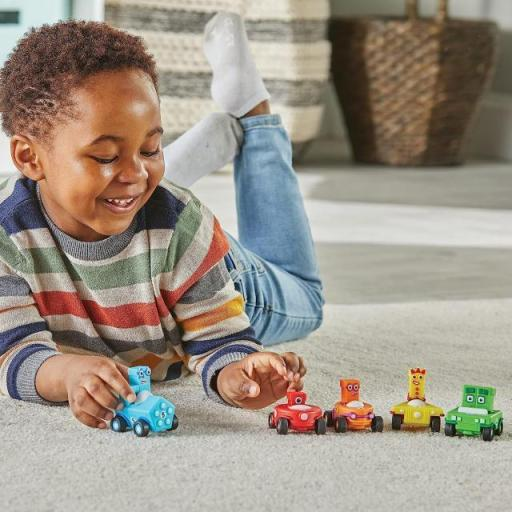baby: (0, 9, 328, 435)
